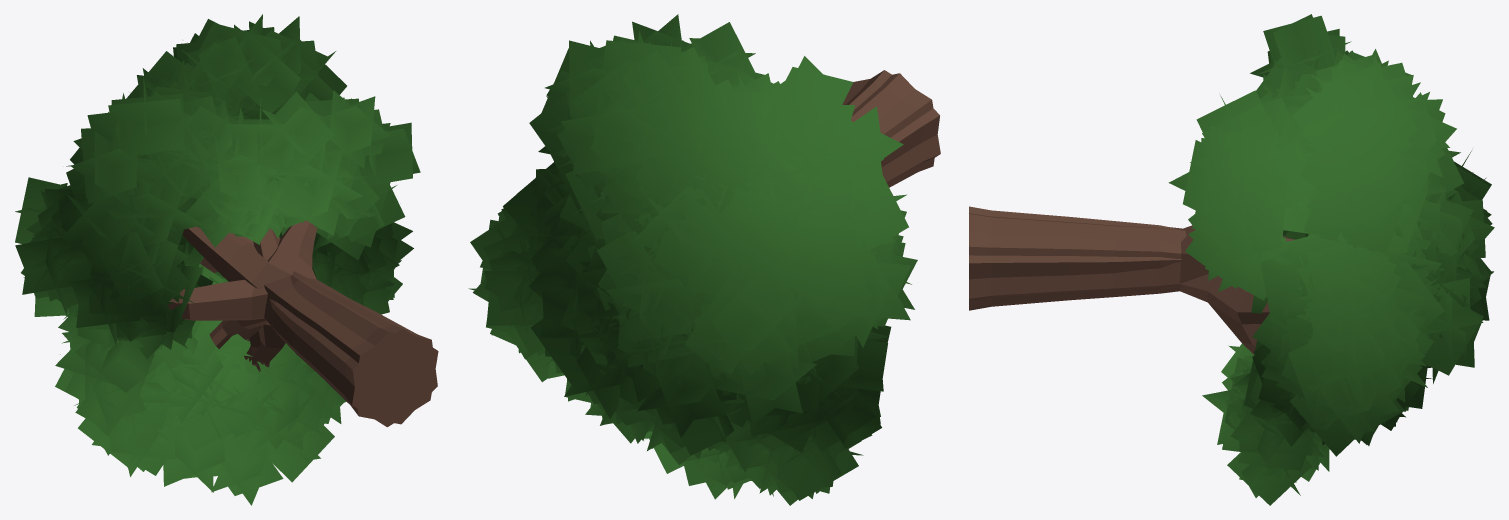
The model's file is Additional Trees.fbx.
3 renders of one model, left to right at view 1: azimuth 30°, elevation 25°; view 2: azimuth 150°, elevation 25°; view 3: azimuth 270°, elevation 25°, orthographic. The views are drawn at different scales.
Visible parts, largest first — view 1: Baobab Tree 3, Baobab Tree 1, Baobab Tree 2; view 2: Baobab Tree 1, Baobab Tree 3, Baobab Tree 2; view 3: Baobab Tree 3, Baobab Tree 1, Baobab Tree 2.
Boxes of the visible parts, <box> form: Baobab Tree 3: <box>61,76,437,505</box>; Baobab Tree 1: <box>55,14,438,476</box>; Baobab Tree 2: <box>15,99,432,419</box>; Baobab Tree 1: <box>529,30,940,505</box>; Baobab Tree 3: <box>468,14,939,499</box>; Baobab Tree 2: <box>545,54,917,437</box>; Baobab Tree 3: <box>969,14,1494,505</box>; Baobab Tree 1: <box>969,42,1475,483</box>; Baobab Tree 2: <box>1233,91,1493,451</box>.
Size of the model in its own units: 2276 by 2446 by 2609.
